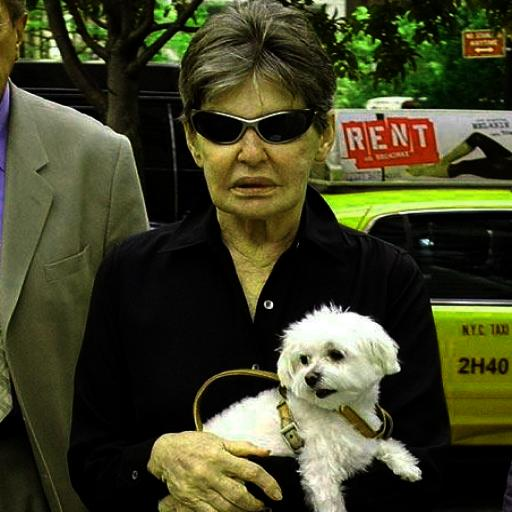dog_face: (273, 308, 398, 414)
